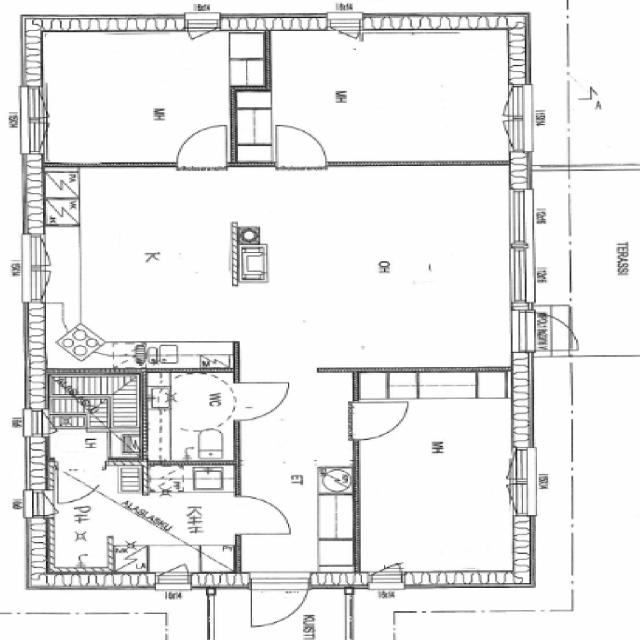door: (250, 572, 308, 633), (508, 309, 585, 351), (234, 496, 291, 535), (234, 382, 290, 420), (276, 125, 326, 167), (176, 126, 226, 168), (352, 403, 408, 439), (57, 460, 105, 500)
